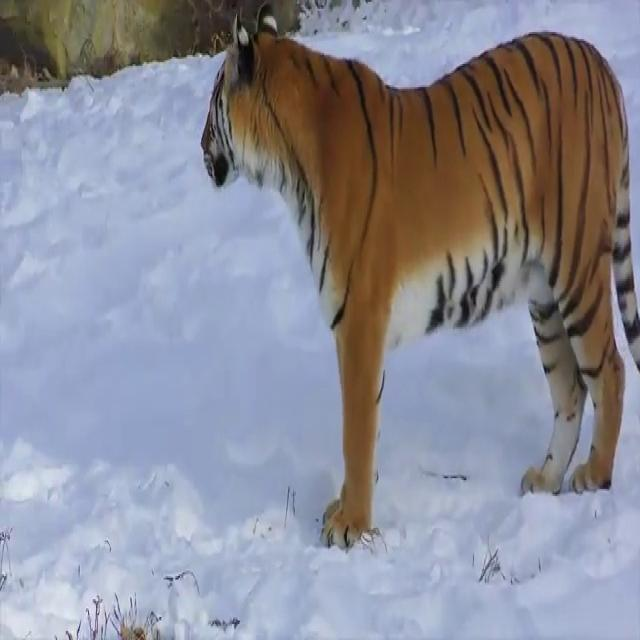tiger: (199, 0, 640, 548)
